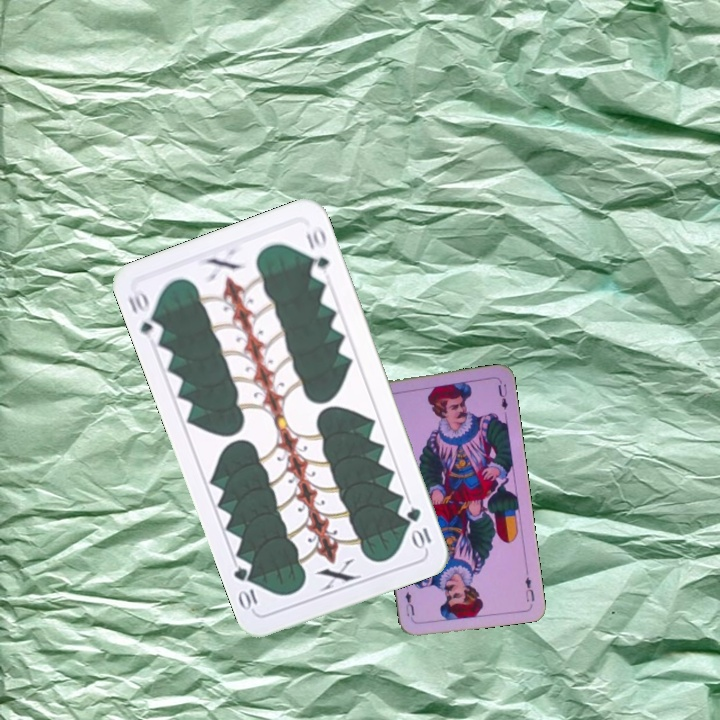EU: (521, 573, 537, 605)
G10: (124, 288, 165, 345), (402, 503, 434, 552)
